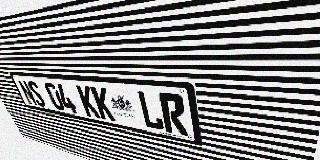0: (43, 82, 66, 111)
4: (54, 83, 78, 114)
K: (90, 86, 116, 122), (75, 85, 101, 118)
L: (136, 91, 165, 131)
N: (17, 80, 38, 106)
R: (158, 93, 188, 136)
S: (26, 80, 47, 108)
